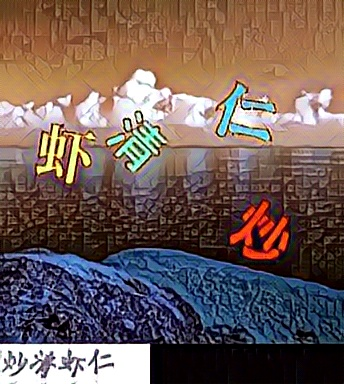B3B4: (226, 197, 291, 264)
C7E5: (104, 107, 169, 174)
C8CA: (210, 80, 275, 147)
CFBA: (29, 120, 94, 187)
